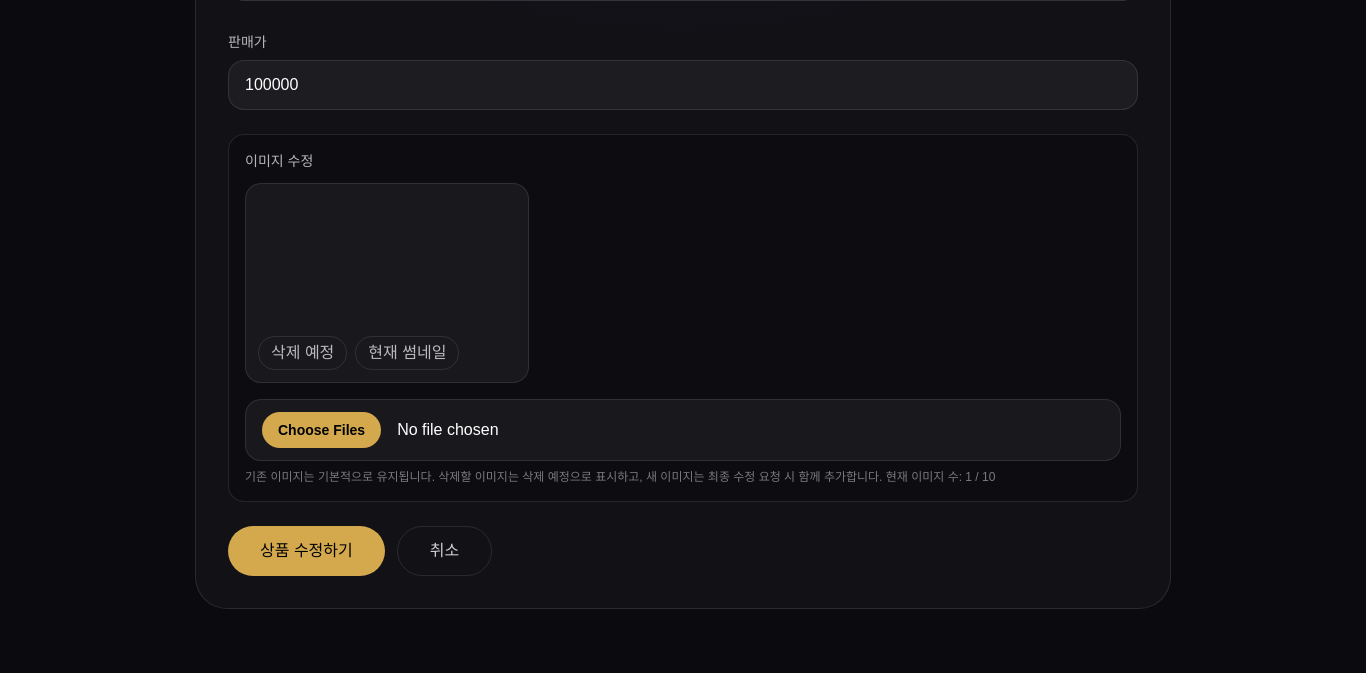
Scenario: ProductEditPage image interactions › 이미지가 0장이 되는 submit은 막는다
The image size is (1366, 673).
(page scrolled)
Click the button "삭제 예정": (303, 353) [258,336,347,370]
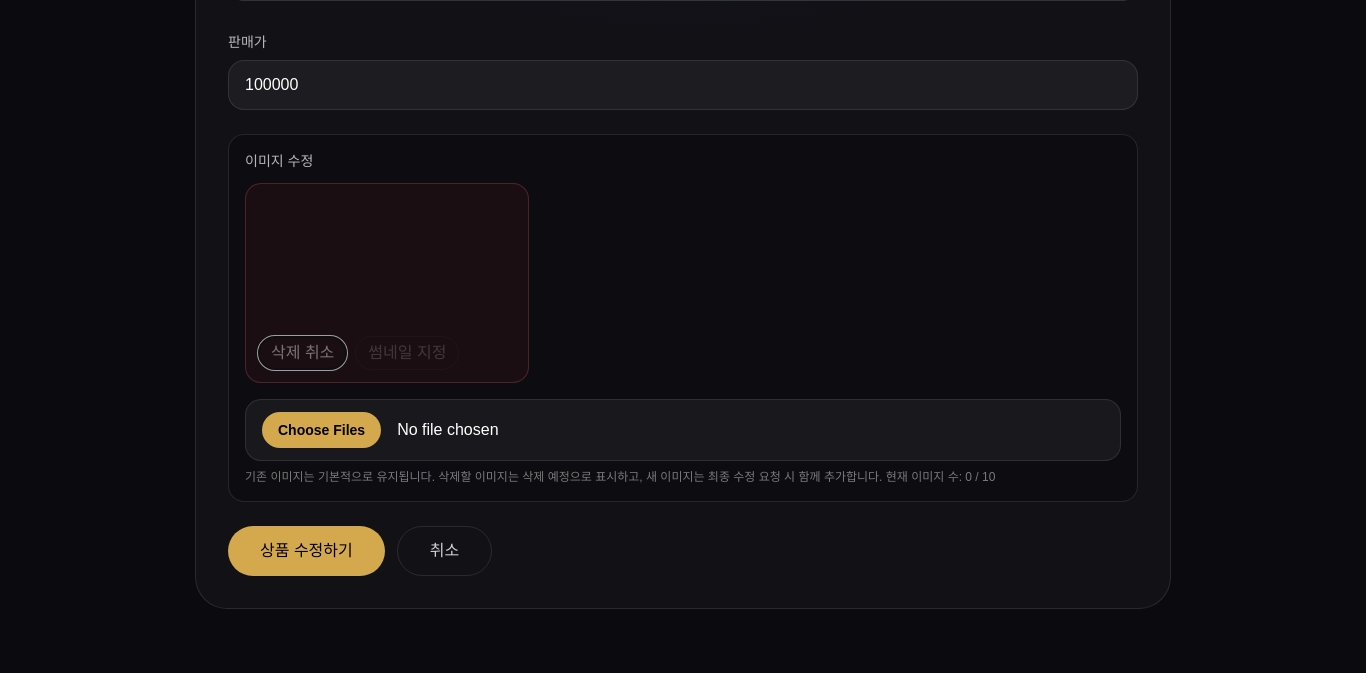
Click the button "상품 수정하기": (306, 551) [228,526,385,576]
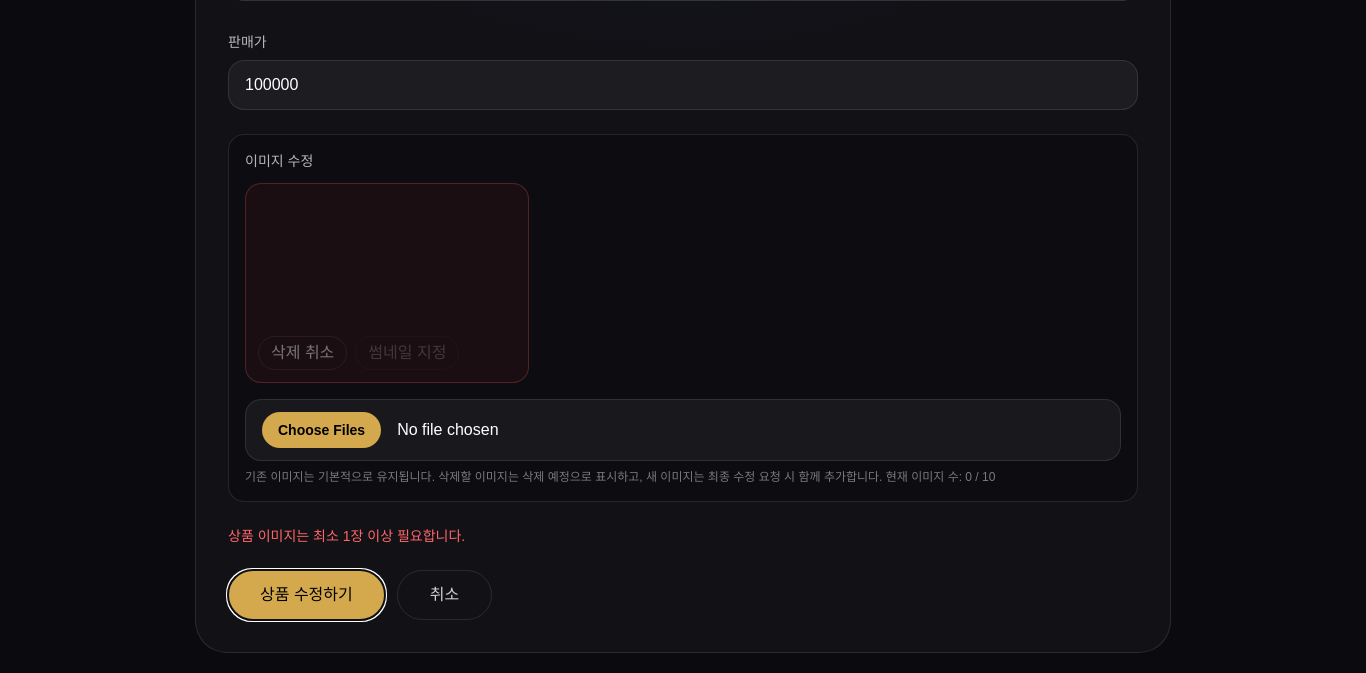
Now the text "상품 이미지는 최소 1장 이상 필요합니다." is shown, box [228,528,465,544]
